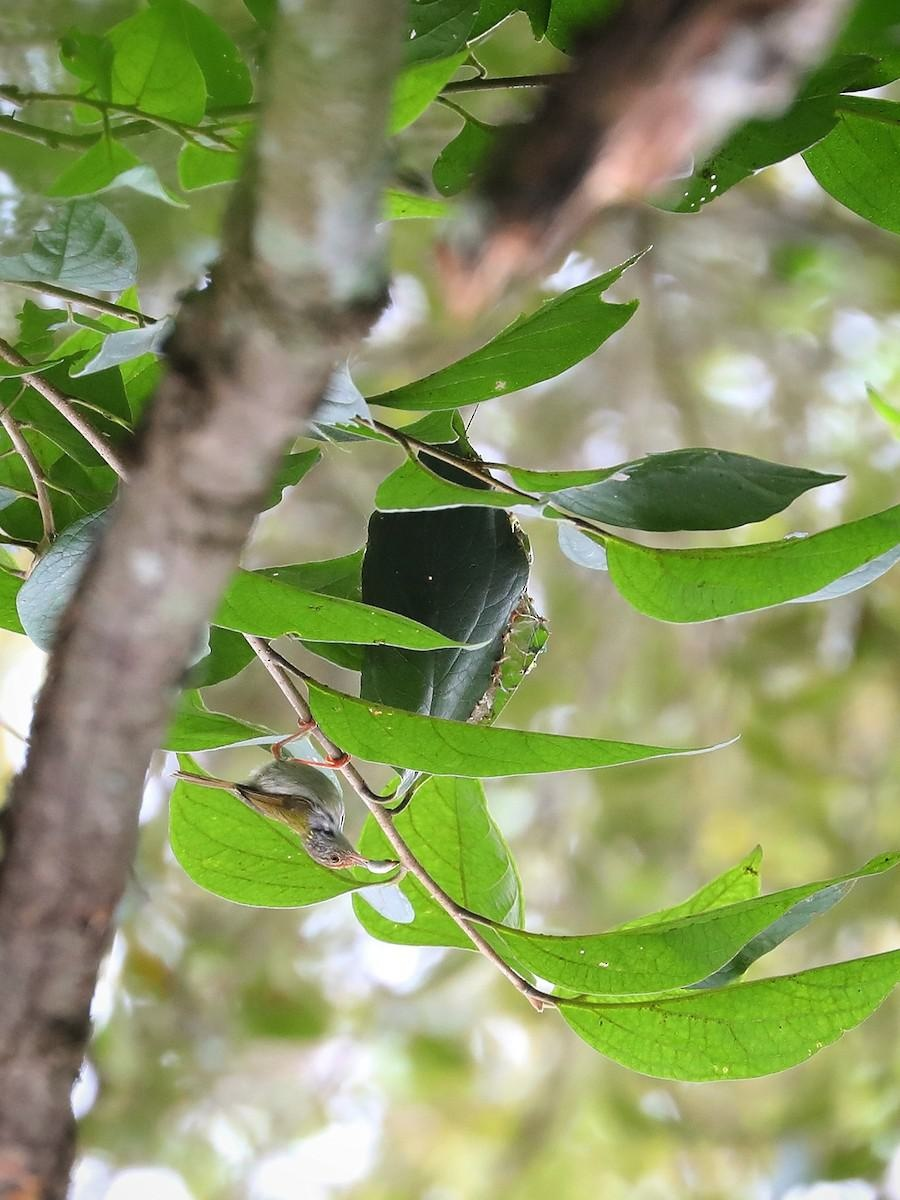tailorbird: (170, 731, 396, 893)
